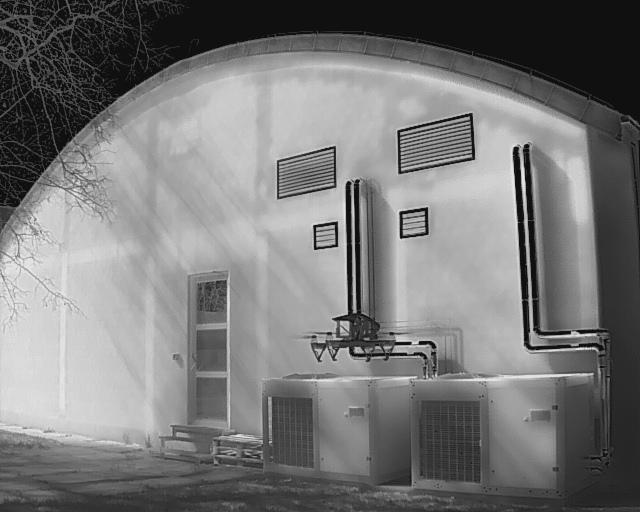drone: (302, 302, 413, 381)
